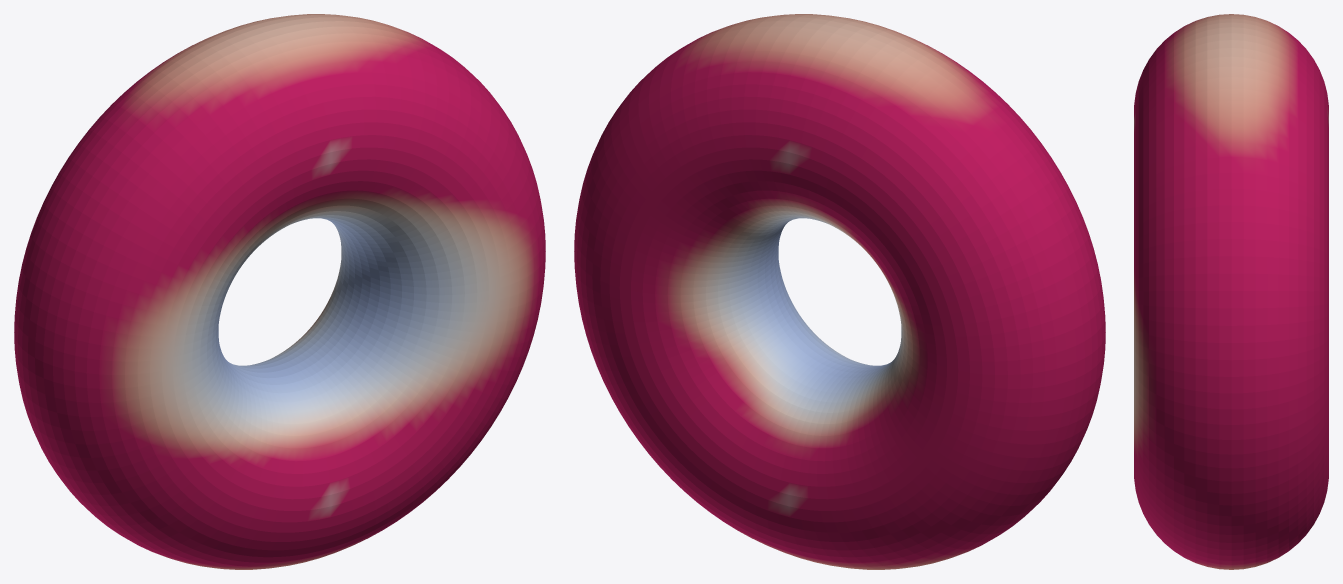
3 views of the same model, side by side, from view 1: azimuth 30°, elevation 25°; view 2: azimuth 150°, elevation 25°; view 3: azimuth 270°, elevation 25° (orthographic). The views are drawn at different scales.
Parts seen in each view (by area): view 1: world; view 2: world; view 3: world.
Part boxes in pixels (box(x1,y1,x2,y2)): world: box(14, 14, 545, 569); world: box(574, 14, 1105, 569); world: box(1134, 14, 1328, 569).
Size of the model in its own units: 27.73 by 27.73 by 9.71.
